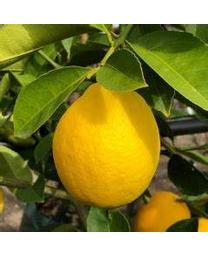lemon: (54, 85, 162, 206)
